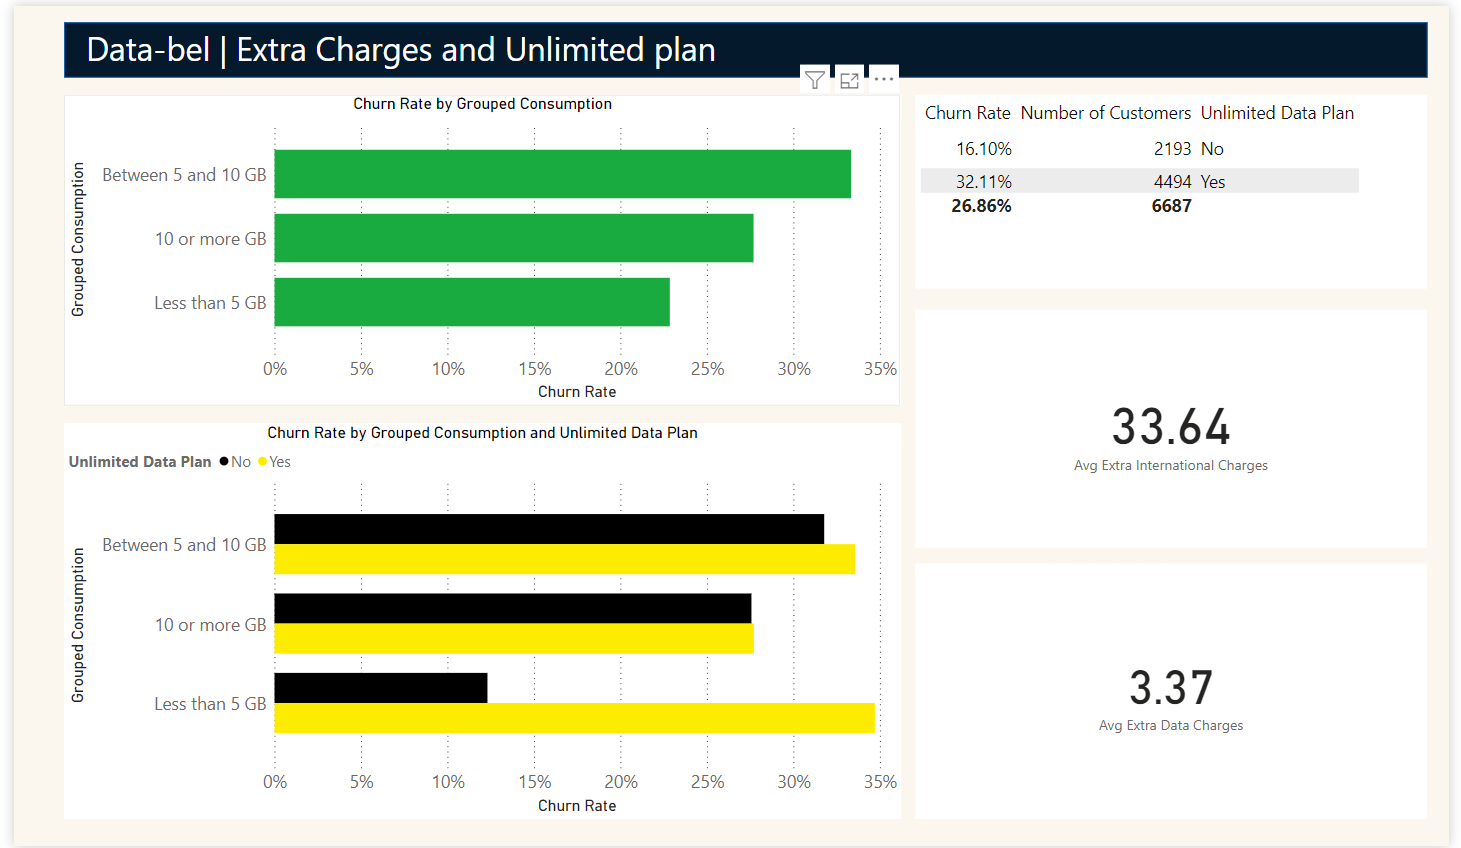

Layout of this report page (visuals, bound fields, positions):
{"tool":"powerbi","page":{"name":"Extra Charges and Unlimited plan","canvas":[1640,960],"ordinal":2},"visuals":[{"type":"shape","box":[56.7,18.3,1558.3,63.3],"z":0},{"type":"textbox","box":[76.7,18.3,786.7,63.3],"z":1000},{"type":"clusteredBarChart","fields":{"Y":["DatabelData.Churn Rate"],"Category":["DatabelData.Grouped Consumption"]},"box":[56.7,101.7,956.7,355],"z":1001},{"type":"tableEx","fields":{"Values":["DatabelData.Churn Rate","DatabelData.Number of Customers","DatabelData.Unlimited Data Plan"]},"box":[1030,101.7,585,221.7],"z":1002},{"type":"clusteredBarChart","fields":{"Y":["DatabelData.Churn Rate"],"Category":["DatabelData.Grouped Consumption"],"Series":["DatabelData.Unlimited Data Plan"]},"box":[56.7,476.7,956.7,451.7],"z":1003},{"type":"card","fields":{"Values":["DatabelData.Avg Extra International Charges"]},"box":[1030,346.7,585,271.7],"z":1004},{"type":"card","fields":{"Values":["DatabelData.Avg Extra Data Charges"]},"box":[1030,636.7,585,291.7],"z":1005}]}

Visuals, with their boxes in screenshot pixels (x1, y1, x2, y2), scaled from the page's 1640x960 canvas onto the 1461x848 screenshot:
shape: region(51, 16, 1439, 72)
textbox: region(68, 16, 769, 72)
clusteredBarChart - DatabelData.Churn Rate x DatabelData.Grouped Consumption: region(51, 90, 903, 403)
tableEx - DatabelData.Churn Rate x DatabelData.Number of Customers: region(918, 90, 1439, 286)
clusteredBarChart - DatabelData.Churn Rate x DatabelData.Grouped Consumption: region(51, 421, 903, 820)
card - DatabelData.Avg Extra International Charges: region(918, 306, 1439, 546)
card - DatabelData.Avg Extra Data Charges: region(918, 562, 1439, 820)
